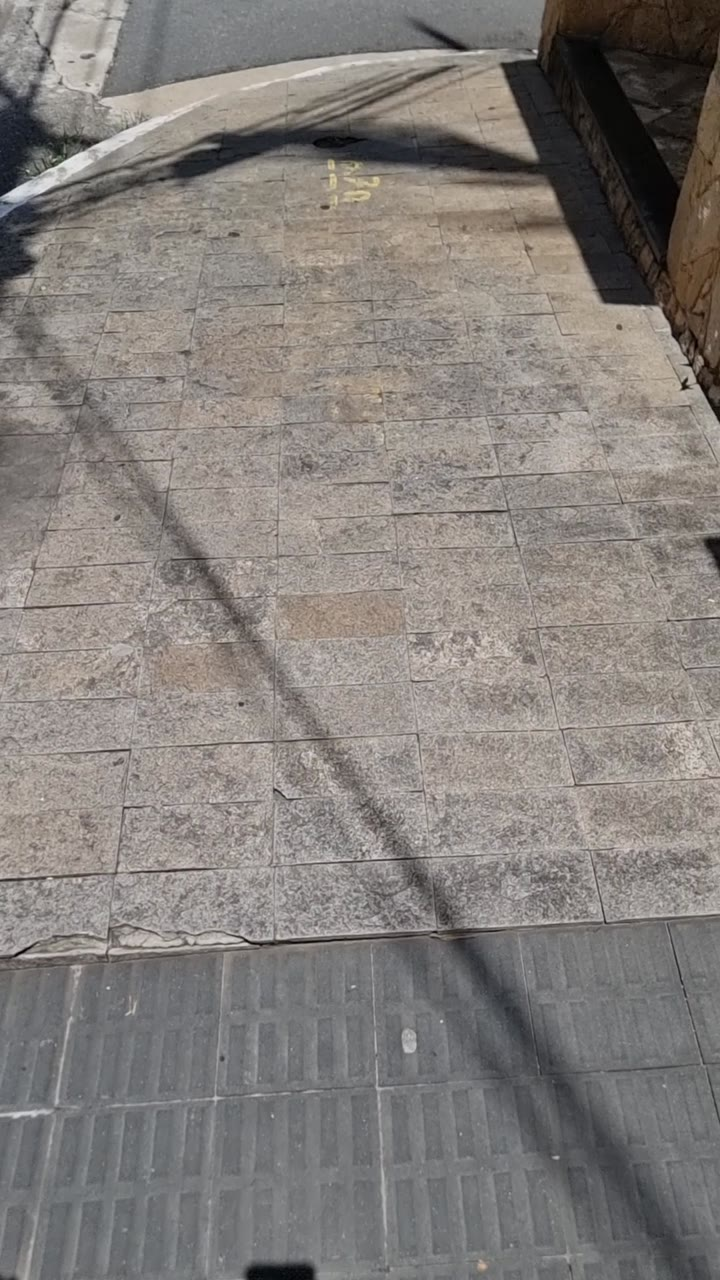desnivel: (0, 845, 720, 934)
